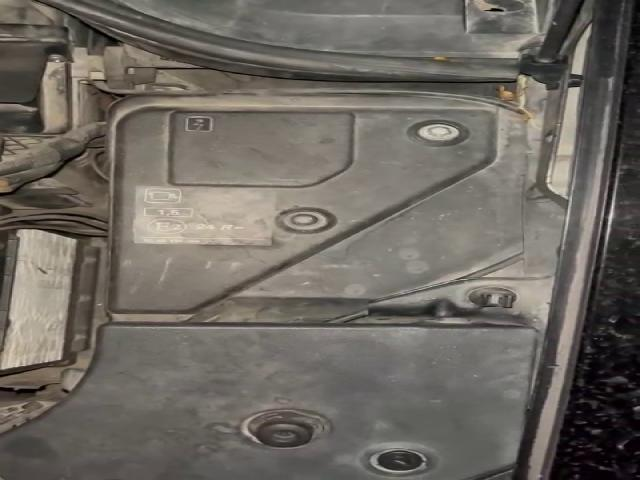fuse_box: (107, 108, 495, 313)
